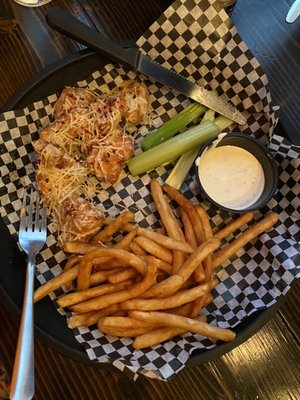burger: (41, 2, 253, 132), (6, 127, 48, 399), (7, 207, 48, 399)
sushi: (194, 133, 277, 214)
